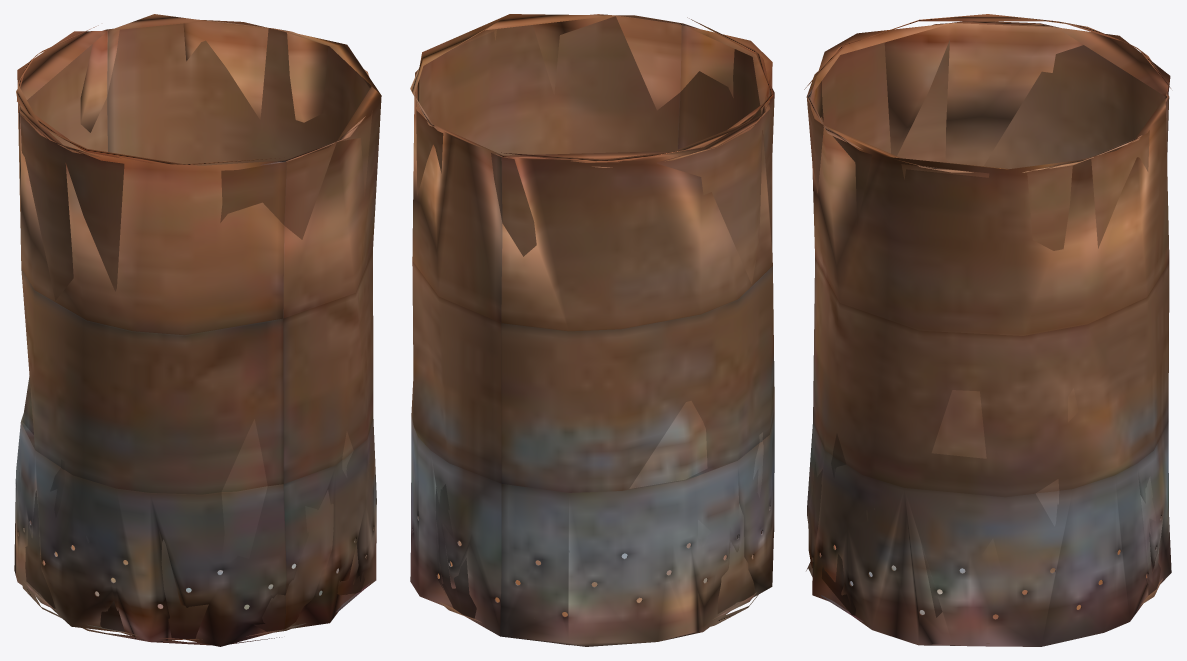
File: barrel_stove_lod2.glb
3 renders of one model, left to right at view 1: azimuth 30°, elevation 25°; view 2: azimuth 150°, elevation 25°; view 3: azimuth 270°, elevation 25°, orthographic.
Visible parts, largest first — view 1: barrel_stove; view 2: barrel_stove; view 3: barrel_stove.
Part boxes in pixels (x1,y1,x2,y2): barrel_stove: [14, 14, 381, 646]; barrel_stove: [410, 14, 774, 646]; barrel_stove: [804, 14, 1171, 646].
Bounding box in the file's own units: 0.5839 × 0.8539 × 0.5887.
1 material, 1 textured.
